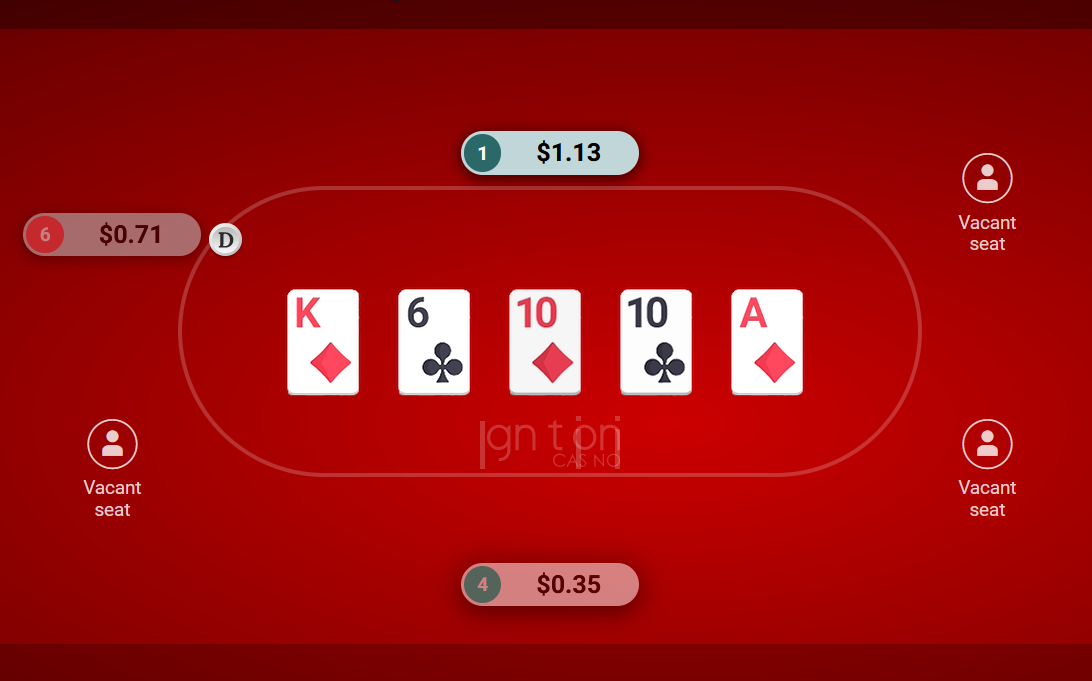10C: (616, 285, 697, 396)
10D: (505, 285, 586, 396)
6C: (394, 285, 475, 396)
AD: (727, 285, 808, 396)
KD: (283, 285, 364, 396)
